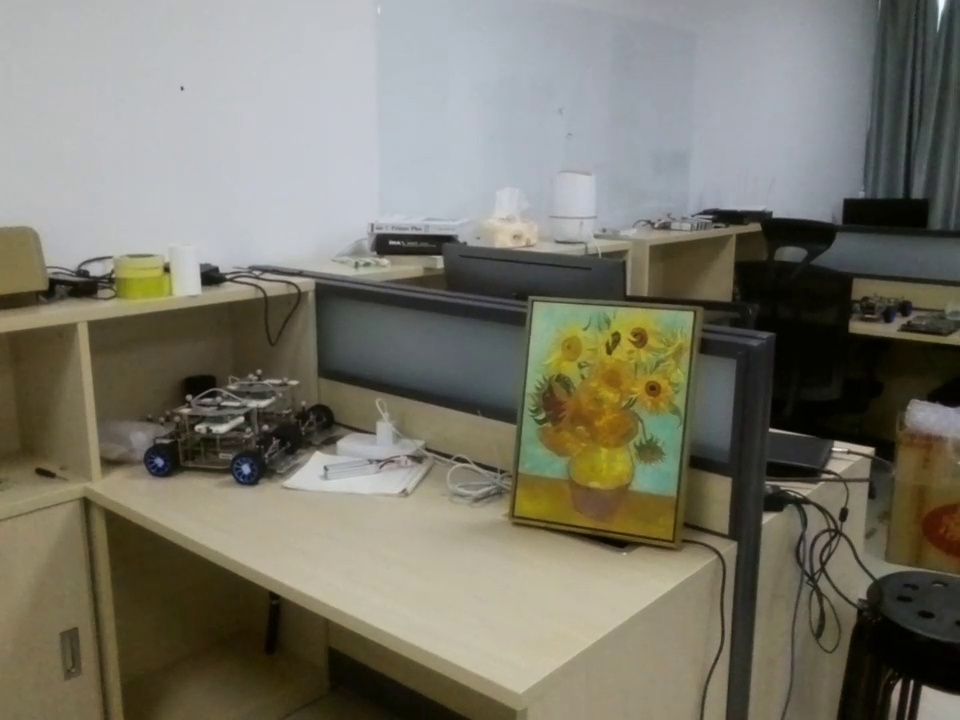painting: (514, 292, 705, 550)
